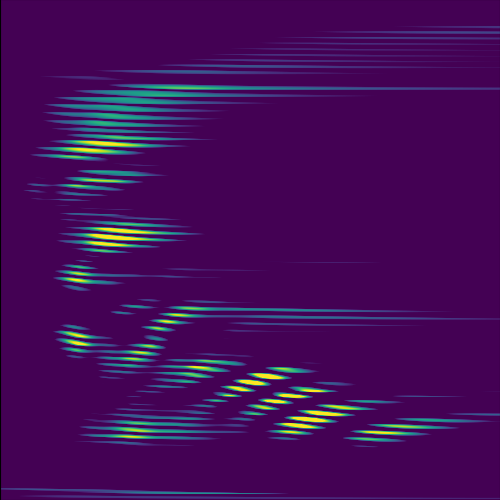semblance: (274, 395, 357, 441), (244, 380, 331, 422), (219, 363, 301, 401), (79, 220, 168, 254), (63, 132, 141, 157), (356, 419, 435, 438), (68, 171, 129, 194), (124, 339, 164, 369), (181, 355, 231, 377)
